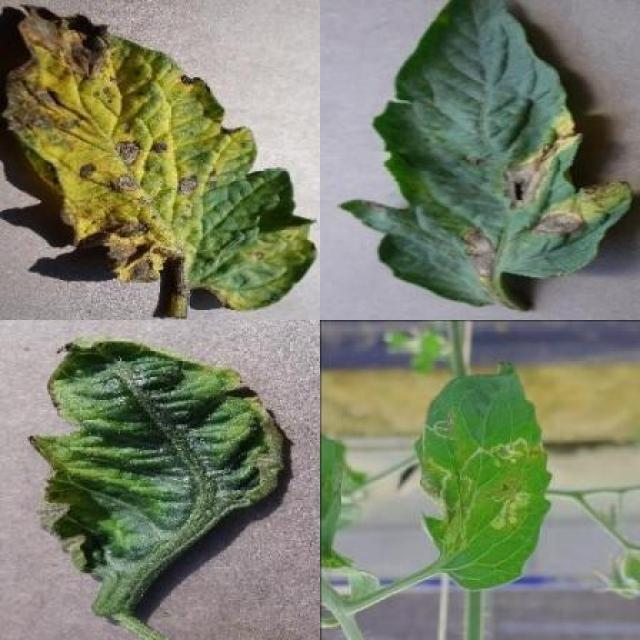Early Blight: (6, 5, 316, 312), (342, 1, 628, 306)
Leaf Miner: (413, 362, 553, 592)
Yellow Leaf Curl Virus: (28, 338, 286, 578)
